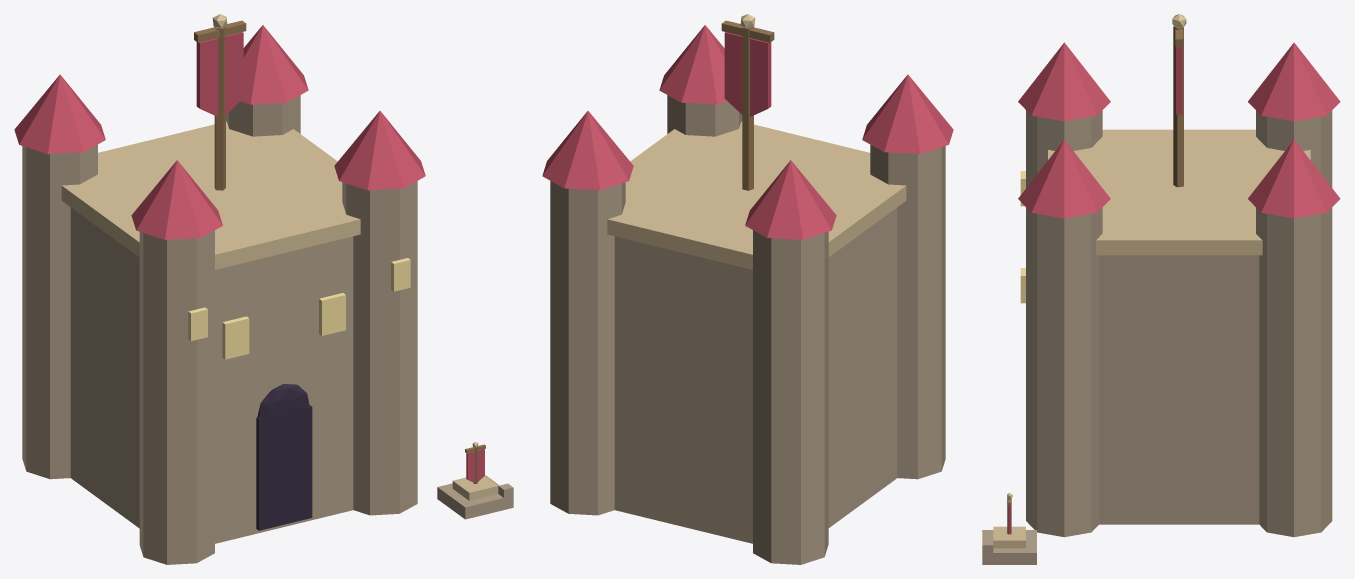
File: medieval-landmark-s3.glb
The picture shows the model from 3 angles, left to right: view 1: azimuth 30°, elevation 25°; view 2: azimuth 150°, elevation 25°; view 3: azimuth 270°, elevation 25°; orthographic projection.
Visible parts, largest first — view 1: medieval-landmark-s3; view 2: medieval-landmark-s3; view 3: medieval-landmark-s3.
Part boxes in pixels (bbox=[...]): medieval-landmark-s3: bbox=[14, 14, 513, 564]; medieval-landmark-s3: bbox=[542, 14, 953, 564]; medieval-landmark-s3: bbox=[982, 14, 1340, 564].
Size of the model in its own units: 1.39 by 1.85 by 1.31.
